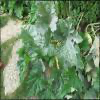Squash Powdery mildew leaf: (58, 19, 84, 71), (35, 1, 59, 34)
